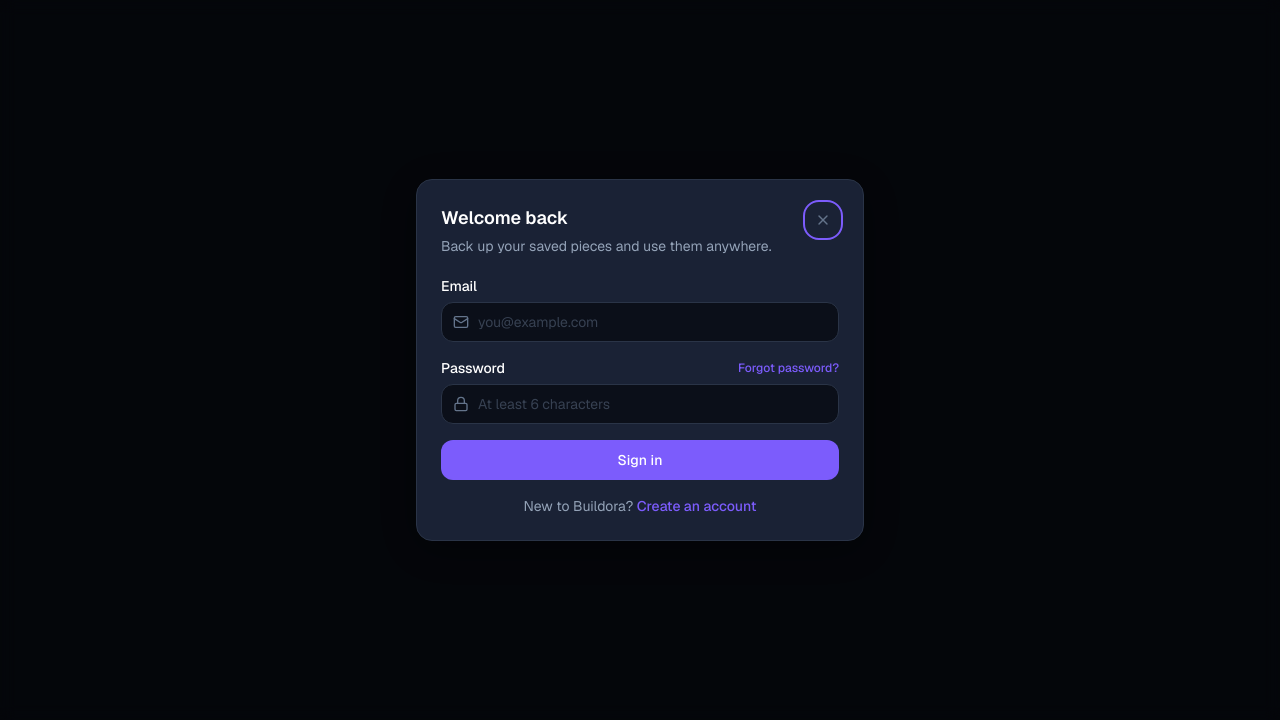
Test: AuthDialog › rejects a short password
Type "a@example.com" into the field labelled "Email" at coordinates (640, 322), box [441,302,839,342]
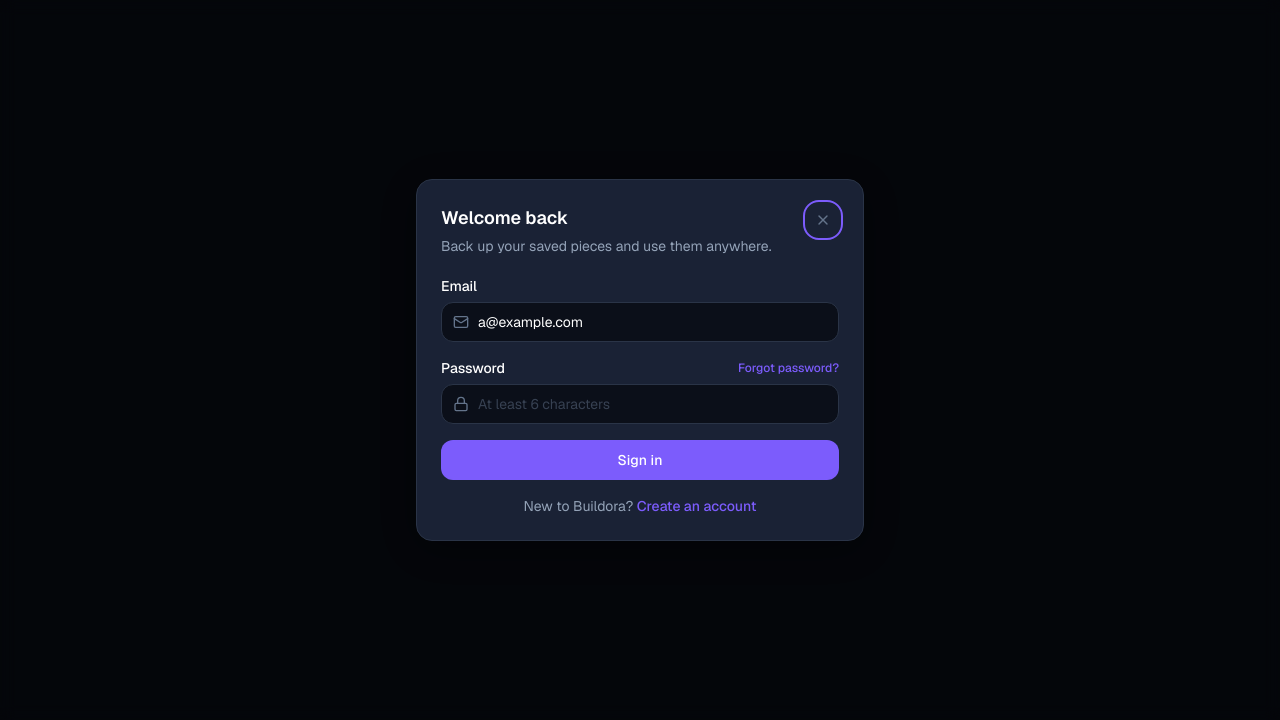
Type "123" into the password field labelled "Password" at coordinates (640, 404), box [441,384,839,424]
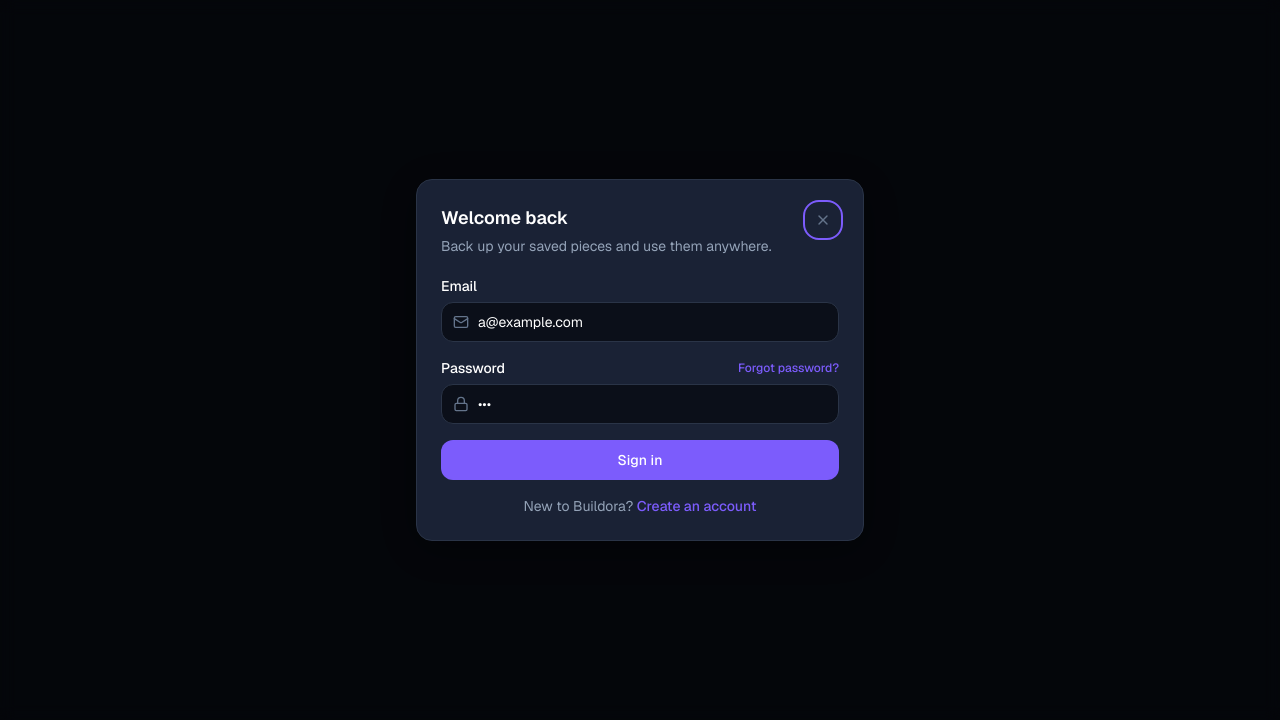
Click the button "Sign in" at coordinates (640, 460), box [441,440,839,480]
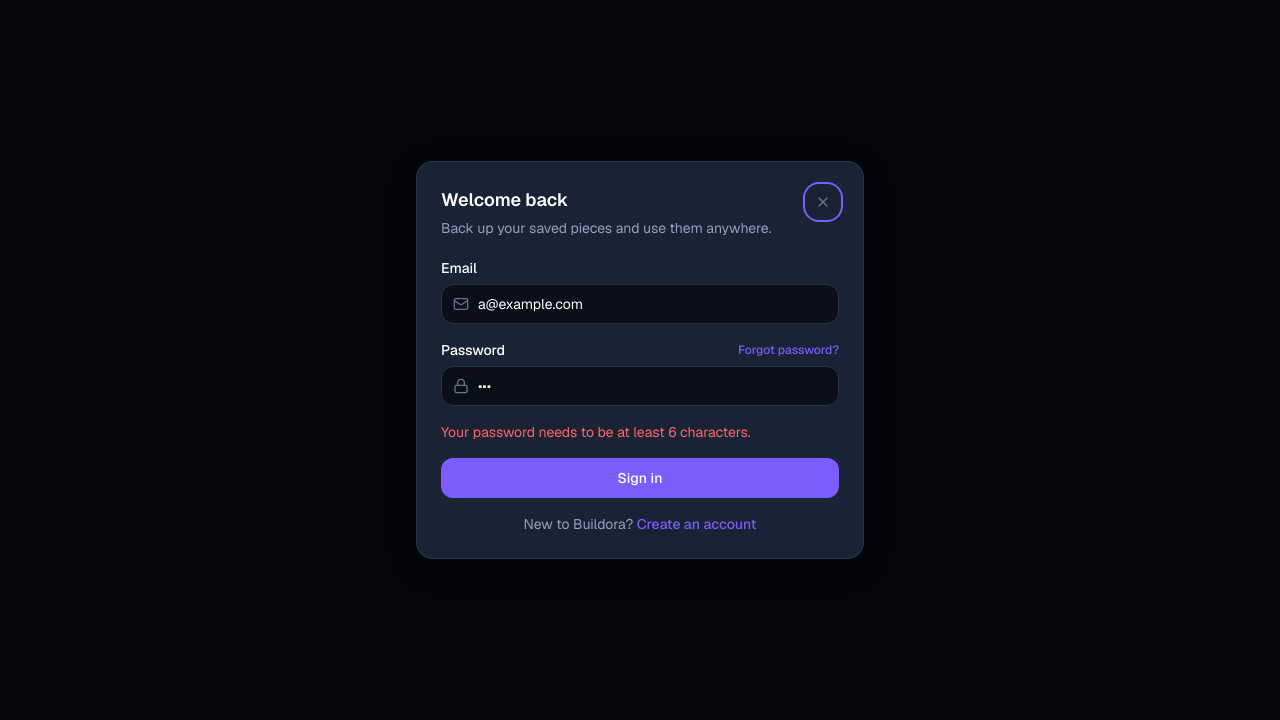
Check: the message reads "Your password needs to be at least 6 characters.", box [441,423,751,441]
